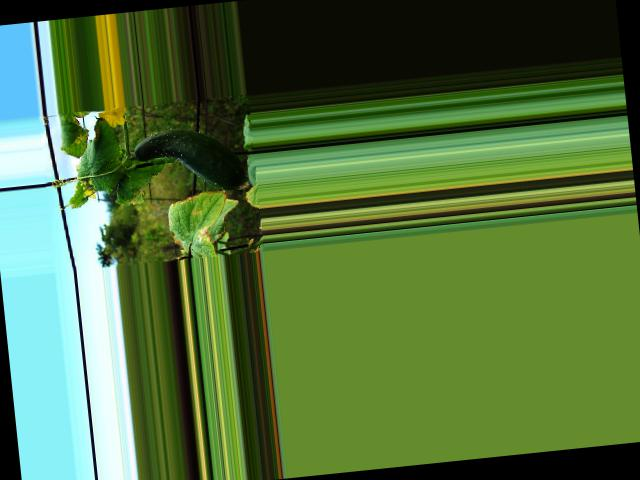cucumber: (130, 122, 246, 200)
